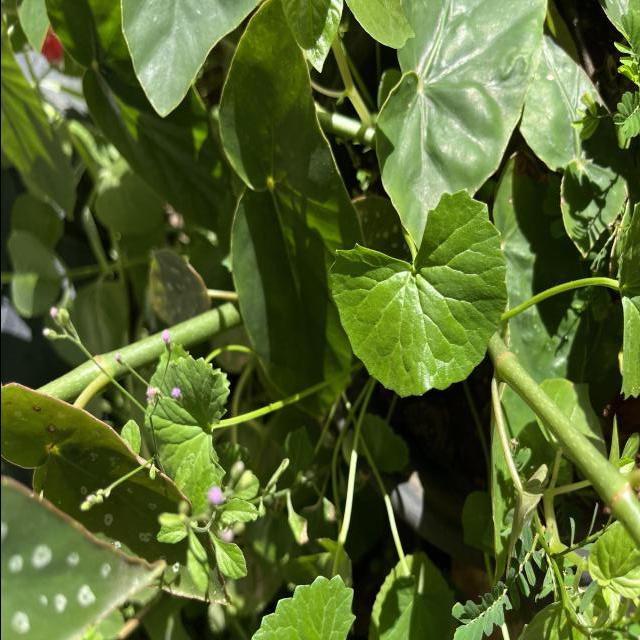Centella asiatica: (323, 186, 510, 402)
